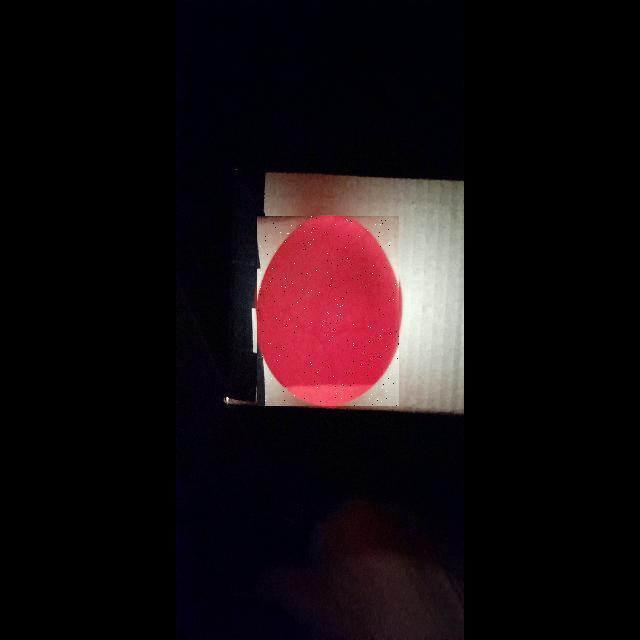Fertile: (257, 216, 399, 406)
